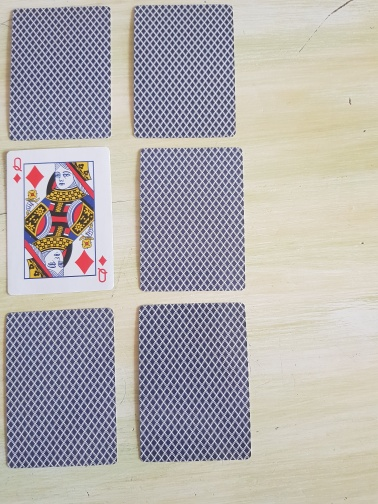queen: (5, 146, 115, 297)
